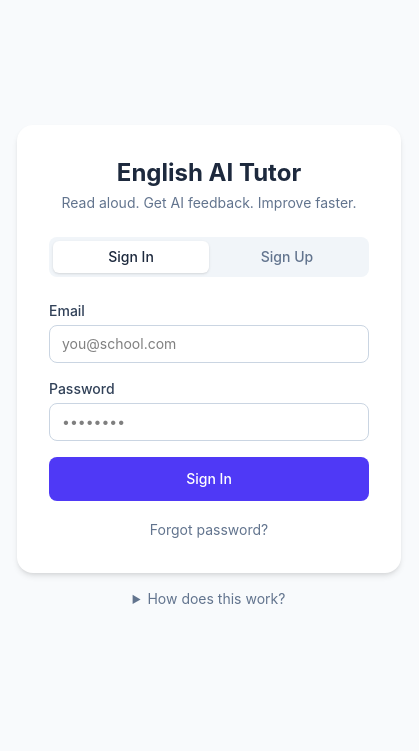
Test: LoginPage — tagline and onboarding context › shows the class code helper hint on the Sign Up tab
This screenshot has width=419, height=751.
Click the button "Sign Up". click: (287, 257)
box: [209,241,365,273]
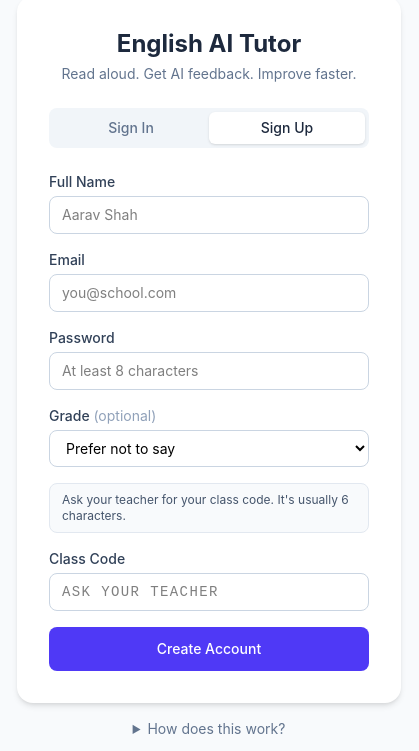
Check: the text "Ask your teacher for your class code" is shown, box [62,492,349,522]
